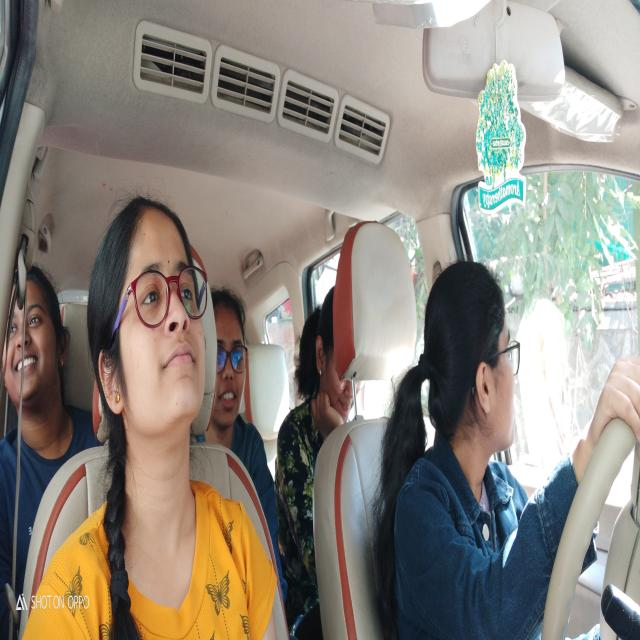LeftRight: (424, 255, 520, 475)
person: (86, 201, 210, 458), (6, 260, 66, 420), (298, 280, 360, 429), (216, 284, 254, 447)
